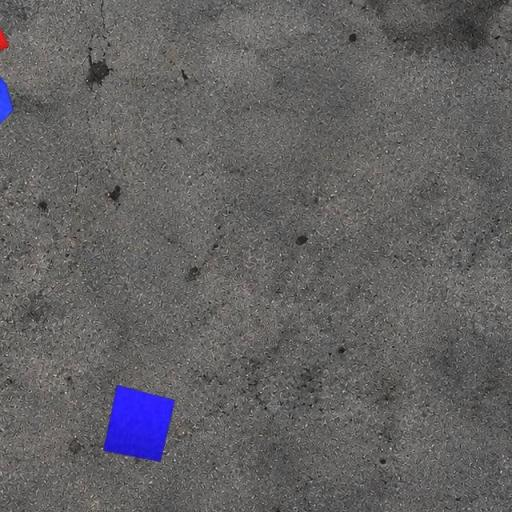BLUE_SQUARE: (102, 384, 176, 462)
